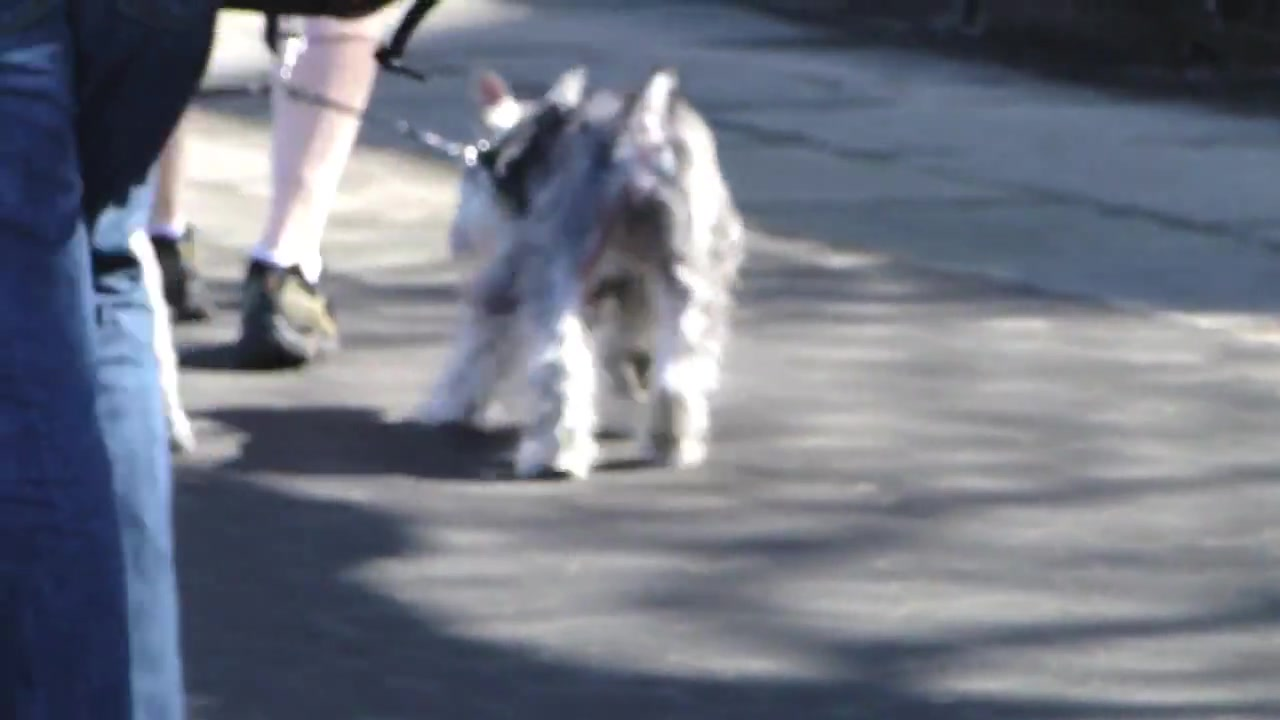dog: (387, 58, 750, 481)
